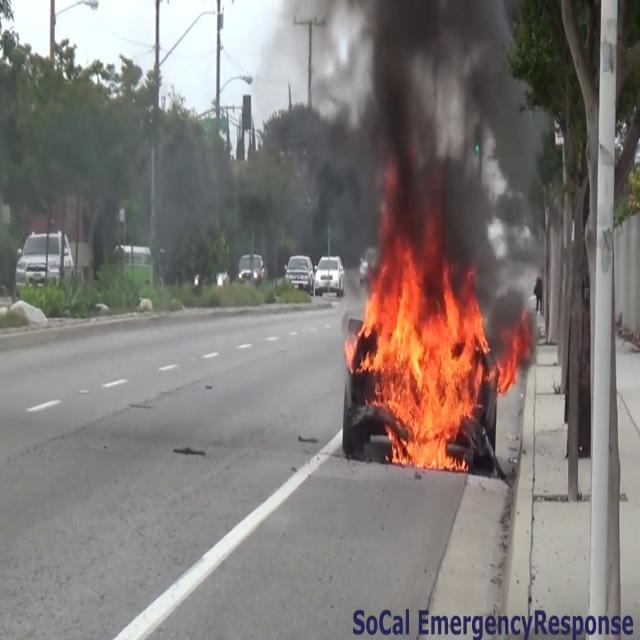Fire: (350, 244, 502, 471)
Smoke: (323, 0, 540, 277)
